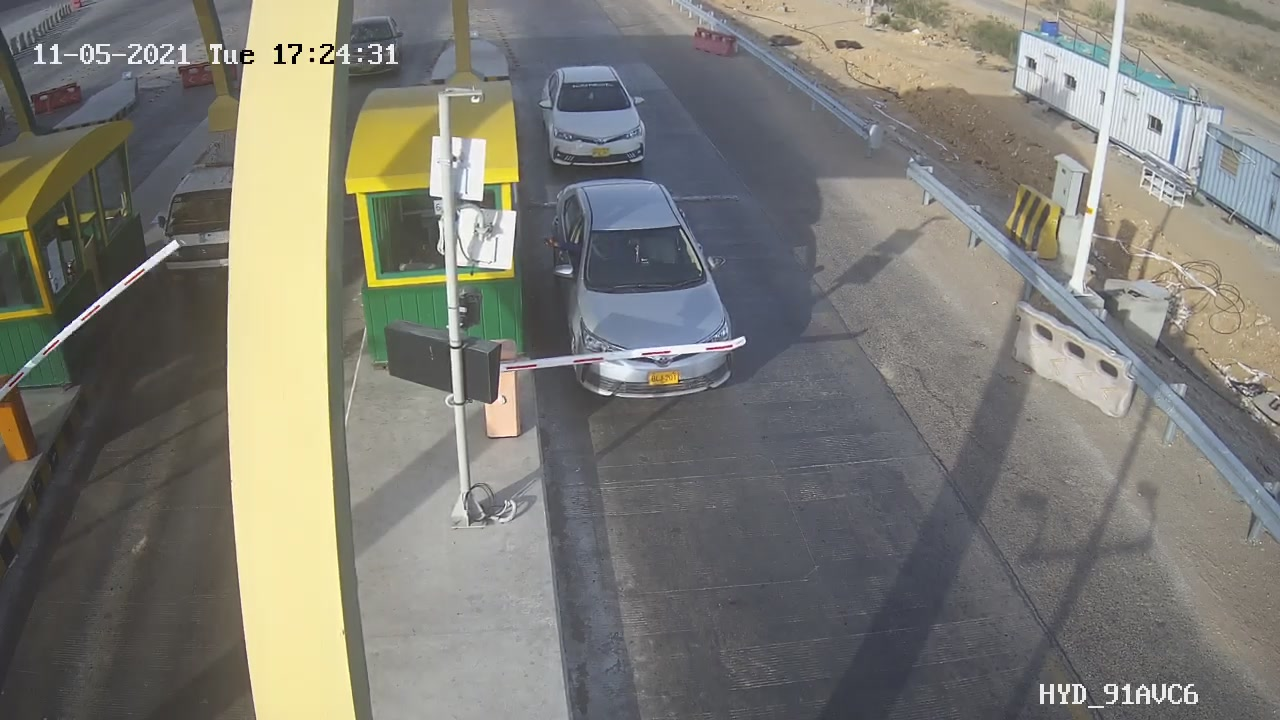F1: (533, 170, 763, 417), (524, 55, 668, 177)
